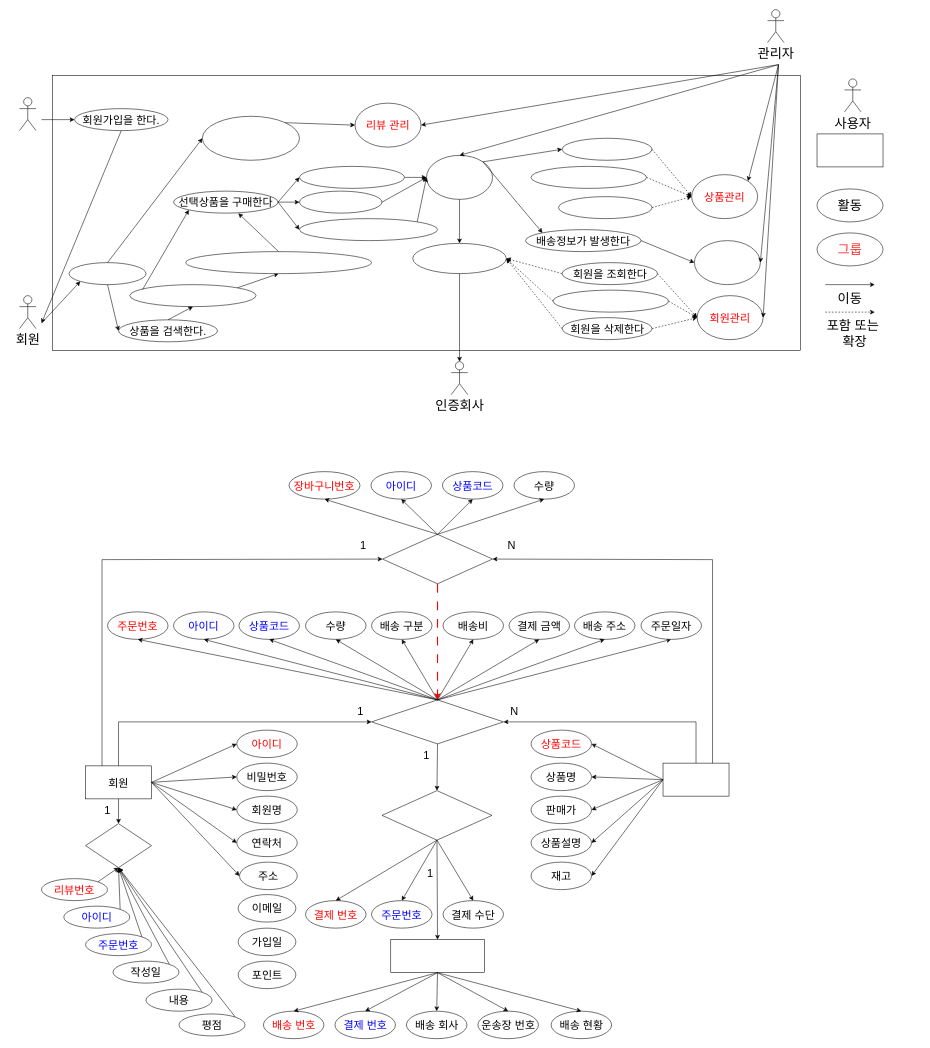
Some shapes in this 930 by 1048 pixel diagram are drawn without their labels. Here are the shapes that lost their labels. From the top down, the box of each, then its label:
(19, 97, 36, 131): 비회원
(202, 116, 299, 160): 구매한 상품에 대해 구매확정을 한다
(562, 138, 652, 160): 재고를 갱신한다
(816, 133, 883, 167): 시스템
(299, 166, 405, 188): 휴대폰으로 결재한다
(426, 155, 493, 199): 결재관리
(530, 166, 647, 188): 상품 정보를 수정한다
(299, 191, 382, 213): 카드로 결재한다
(558, 196, 652, 219): 상품을 추가한다
(299, 218, 438, 241): 무통장 입금으로 결재한다
(68, 262, 146, 285): 로그인을 한다.
(185, 251, 372, 274): 선택한 상품을 장바구니에 담는다
(412, 243, 506, 274): 사용자 인증
(694, 240, 760, 285): 배송관리
(129, 284, 256, 307): 구매할 상품을 선택한다
(552, 290, 669, 312): 회원 정보를 수정한다
(382, 534, 493, 584): 장바구니
(371, 699, 504, 744): 주문
(662, 763, 729, 796): 상품
(381, 790, 492, 840): 결제
(85, 823, 152, 868): 리뷰
(390, 939, 484, 973): 배송
